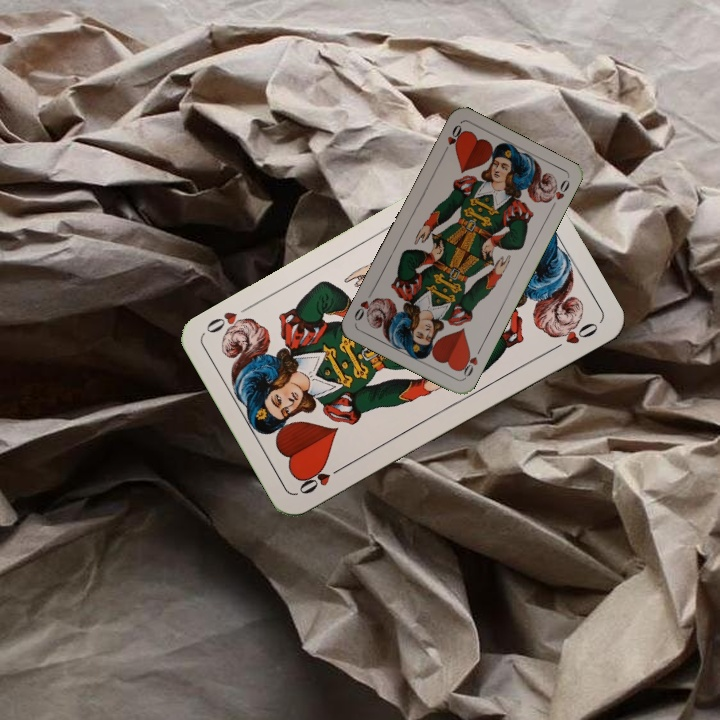HO: (295, 461, 348, 497), (456, 343, 484, 381), (439, 120, 466, 158)
